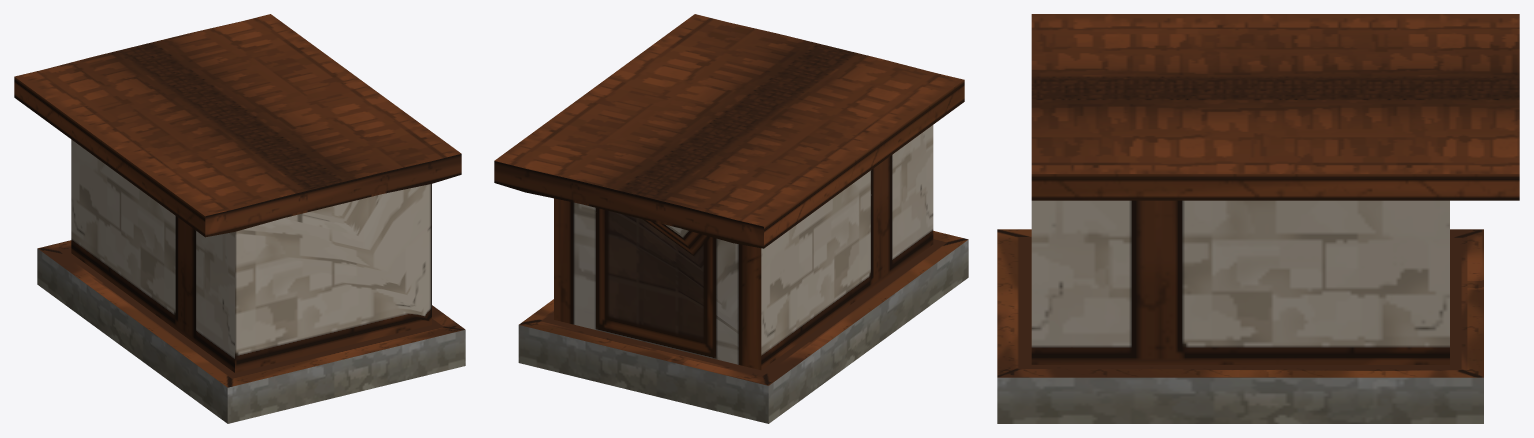
Rendered from Flat Roof.fbx.
3 renders of one model, left to right at view 1: azimuth 30°, elevation 25°; view 2: azimuth 150°, elevation 25°; view 3: azimuth 270°, elevation 25°, orthographic. The views are drawn at different scales.
Parts seen in each view (by area): view 1: Flat Roof Window.001; view 2: Flat Roof Window.001; view 3: Flat Roof Window.001.
Part boxes in pixels (x1,y1,x2,y2): Flat Roof Window.001: (14,14,465,423); Flat Roof Window.001: (494,14,968,423); Flat Roof Window.001: (997,14,1519,423).
Size of the model in its own units: 140 by 104 by 193.
